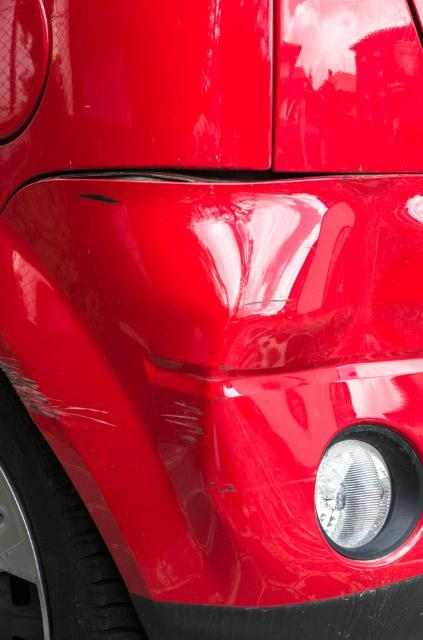Bumper: (0, 172, 385, 603)
